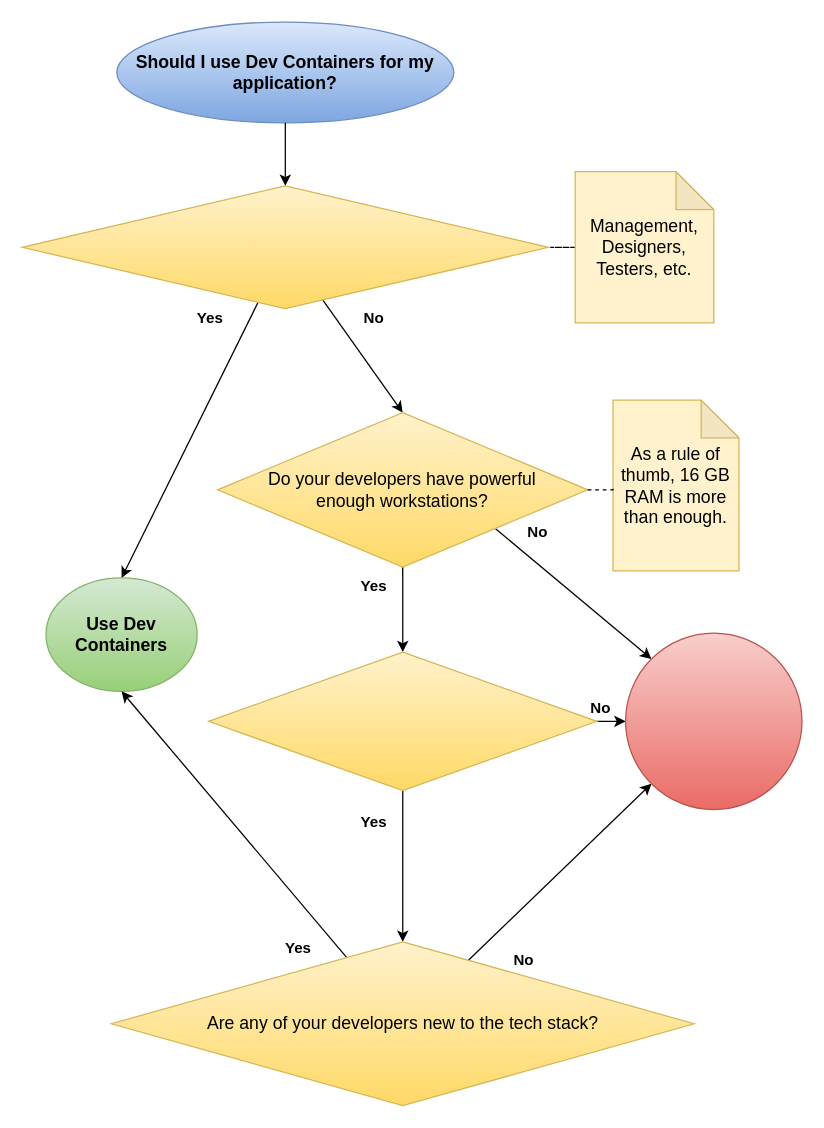
Image size: 824x1128. Some labels were removed from this diagram. The shapes that lost their labels are listed below. From the top down, each one's centre as x and y in pixels, then its label:
the point at 284,247: Do you want to support colleagues that are unfamilar with the tech stack?
the point at 402,721: Is your application complex to set up?
the point at 713,721: Do not use Dev Containers
